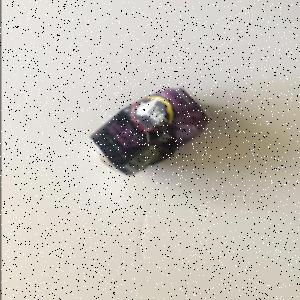Can: (87, 87, 212, 177)
